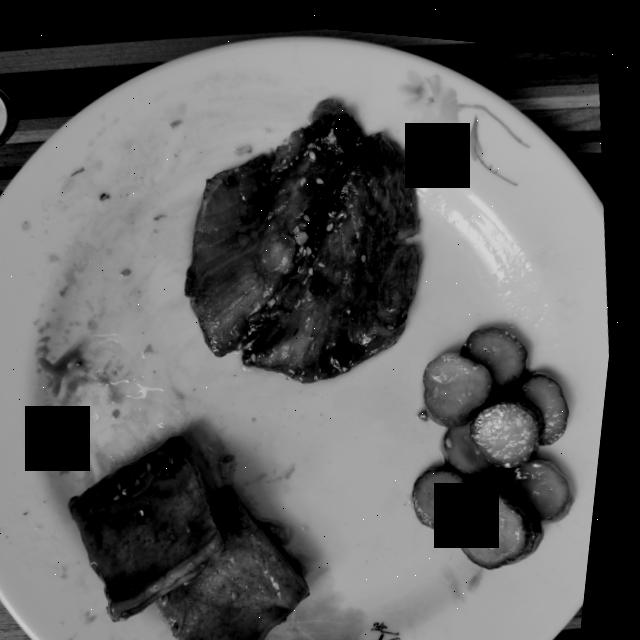Kabayaki sea bream fillet: (191, 91, 426, 376)
coin: (0, 87, 18, 146)
creamy tofu: (80, 431, 321, 640)
cucumber: (422, 317, 583, 558)
